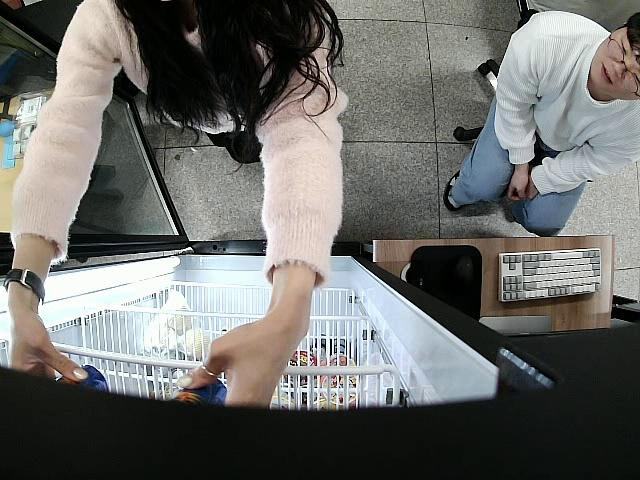00_hand: (178, 319, 308, 409), (6, 299, 91, 384)
16_hot6: (168, 373, 228, 411), (51, 364, 113, 399)
